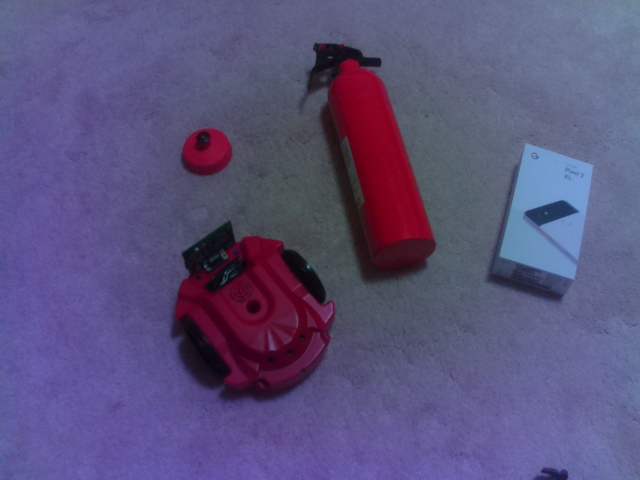chassis: (173, 218, 340, 400)
